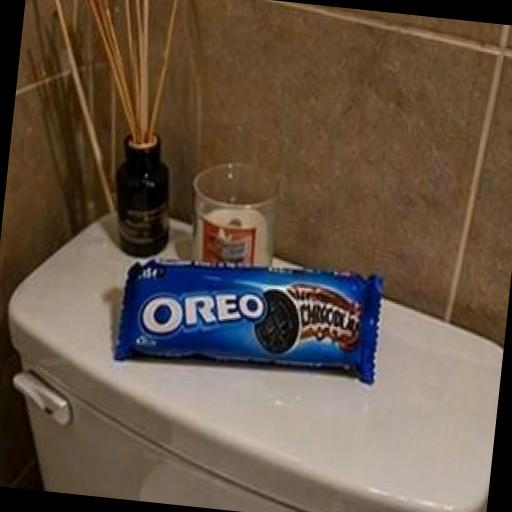oreo: (64, 182, 432, 440)
